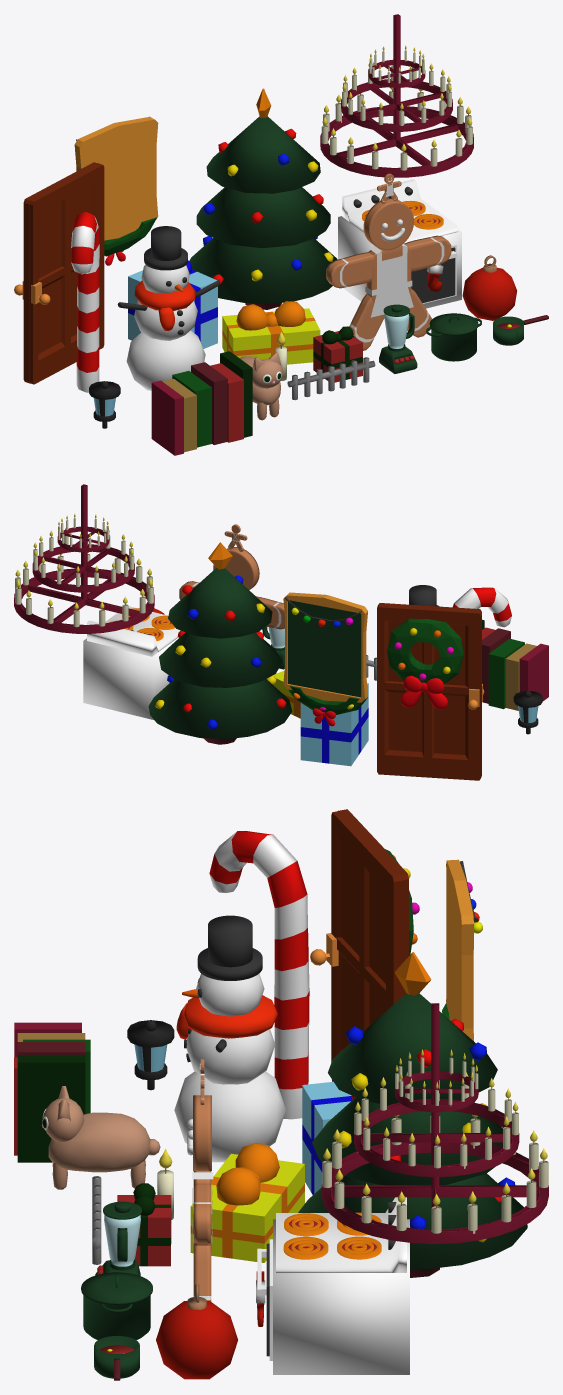
The model's file is christmas.glb.
The picture shows the model from 3 angles, top to bottom: view 1: azimuth 30°, elevation 25°; view 2: azimuth 150°, elevation 25°; view 3: azimuth 270°, elevation 25°; orthographic projection. The views are drawn at different scales.
Parts seen in each view (by area): view 1: tree, chandelier, door.001, Cube.004, snowman, Cube, bow.001, candycane, stovetop, arms, bauble, bow.002 (+17 smaller); view 2: tree, door, chandelier, Cube, Cube.001, wreath, Cube.004, bow.002, stovetop, candycane, garland, head (+9 smaller); view 3: chandelier, tree, snowman, Cube.001, door.001, candycane, bow.001, Cube.004, stovetop, body, bauble, Cube (+16 smaller).
Part boxes in pixels (left/top/right/bottom): tree: left=189, top=116, right=337, bottom=309; chandelier: left=320, top=14, right=473, bottom=177; door.001: left=28, top=163, right=104, bottom=384; Cube.004: left=151, top=351, right=252, bottom=455; snowman: left=117, top=264, right=219, bottom=390; Cube: left=74, top=117, right=158, bottom=240; bow.001: left=222, top=301, right=320, bottom=364; candycane: left=71, top=212, right=99, bottom=392; stovetop: left=342, top=179, right=457, bottom=243; arms: left=326, top=235, right=451, bottom=288; bauble: left=462, top=255, right=516, bottom=320; bow.002: left=128, top=260, right=217, bottom=348; tree: left=148, top=567, right=292, bottom=744; door: left=377, top=604, right=481, bottom=780; chandelier: left=14, top=484, right=154, bottom=633; Cube: left=283, top=592, right=367, bottom=702; Cube.001: left=83, top=637, right=178, bottom=719; wreath: left=387, top=618, right=463, bottom=709; Cube.004: left=482, top=619, right=548, bottom=710; bow.002: left=300, top=683, right=368, bottom=766; stovetop: left=87, top=606, right=180, bottom=656; candycane: left=453, top=587, right=511, bottom=627; garland: left=288, top=686, right=367, bottom=726; head: left=213, top=547, right=259, bottom=590; chandelier: left=321, top=1003, right=548, bottom=1243; tree: left=298, top=993, right=527, bottom=1277; snowman: left=174, top=973, right=285, bottom=1162; Cube.001: left=273, top=1219, right=409, bottom=1374; door.001: left=331, top=811, right=403, bottom=1081; candycane: left=209, top=831, right=309, bottom=1119; bow.001: left=190, top=1143, right=304, bottom=1262; Cube.004: left=14, top=1022, right=90, bottom=1162; stovetop: left=276, top=1197, right=406, bottom=1272; body: left=42, top=1086, right=160, bottom=1172; bauble: left=156, top=1284, right=237, bottom=1379; Cube: left=446, top=859, right=473, bottom=1040.
Bounding box in the file's own units: 9.5 × 4.79 × 6.31.
